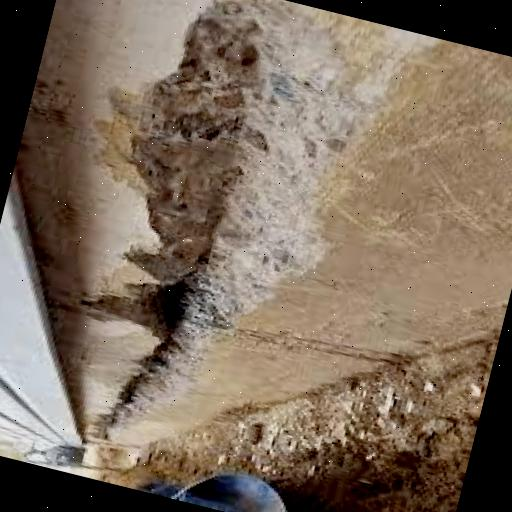spalling: (83, 1, 345, 402)
